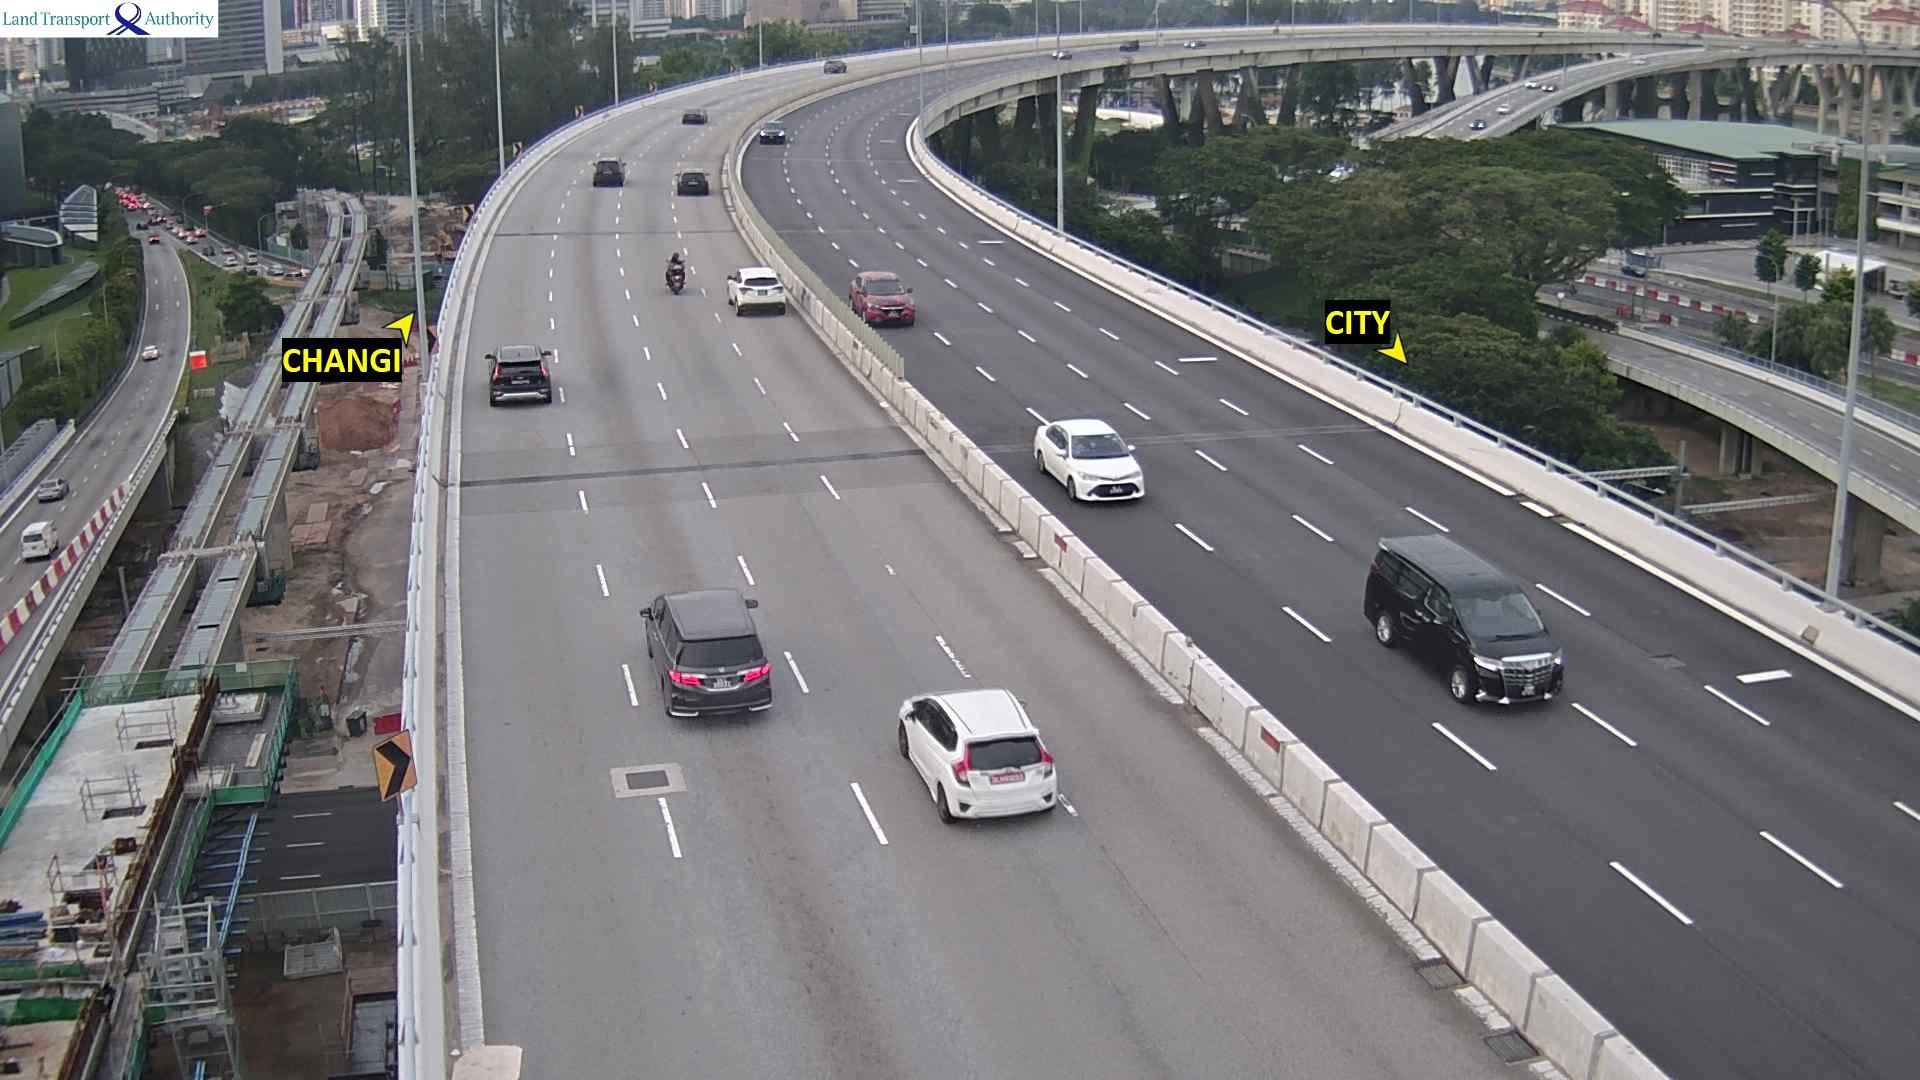incoming: (1455, 593, 1572, 700), (1063, 436, 1146, 505), (857, 280, 916, 326), (758, 123, 786, 145)
